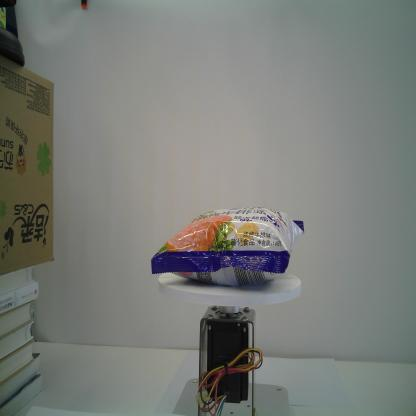Puffed Food: (150, 205, 305, 286)
